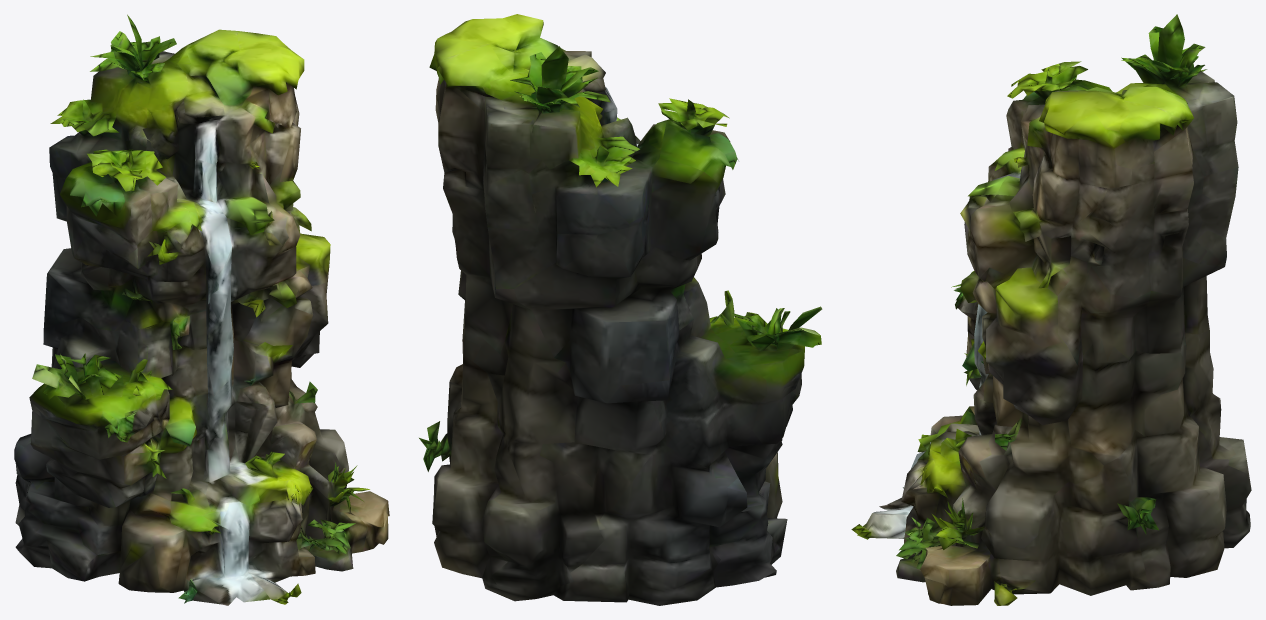
File: cliff_waterfall.glb
3 renders of one model, left to right at view 1: azimuth 30°, elevation 25°; view 2: azimuth 150°, elevation 25°; view 3: azimuth 270°, elevation 25°, orthographic. The views are drawn at different scales.
Parts seen in each view (by area): view 1: tripo_node_eec5482a-613c-4efa-ac13-57ca8c1fd03d; view 2: tripo_node_eec5482a-613c-4efa-ac13-57ca8c1fd03d; view 3: tripo_node_eec5482a-613c-4efa-ac13-57ca8c1fd03d.
Boxes of the visible parts, box(x1,y1,x2,y2) form: tripo_node_eec5482a-613c-4efa-ac13-57ca8c1fd03d: box(14, 14, 389, 605); tripo_node_eec5482a-613c-4efa-ac13-57ca8c1fd03d: box(419, 14, 822, 605); tripo_node_eec5482a-613c-4efa-ac13-57ca8c1fd03d: box(851, 14, 1251, 605).
Bounding box in the file's own units: 0.6909 × 0.992 × 0.697.
1 material, 1 textured.
